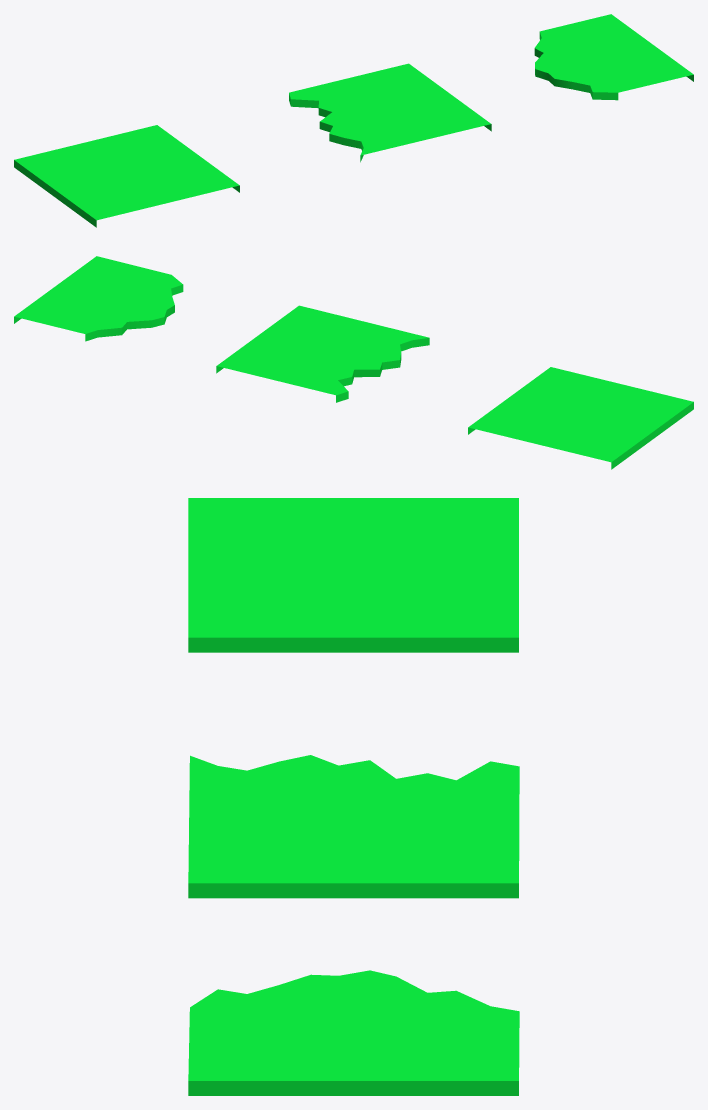
Rendered from Floor for Hallway.FBX.
3 views of the same model, one above another, from view 1: azimuth 30°, elevation 25°; view 2: azimuth 150°, elevation 25°; view 3: azimuth 270°, elevation 25° (orthographic). The views are drawn at different scales.
Visible parts, largest first — view 1: Box001, Box004, Box005; view 2: Box001, Box004, Box005; view 3: Box001, Box004, Box005.
Part boxes in pixels (x1,y1,x2,y2): Box001: (14, 125, 239, 227); Box004: (289, 63, 491, 162); Box005: (534, 14, 693, 100); Box001: (468, 367, 693, 469); Box004: (216, 305, 429, 402); Box005: (14, 256, 183, 341); Box001: (188, 498, 518, 652); Box004: (188, 755, 519, 898); Box005: (188, 970, 519, 1095).
Bounding box in the file's own units: 41.71 × 0.5 × 10.02.
